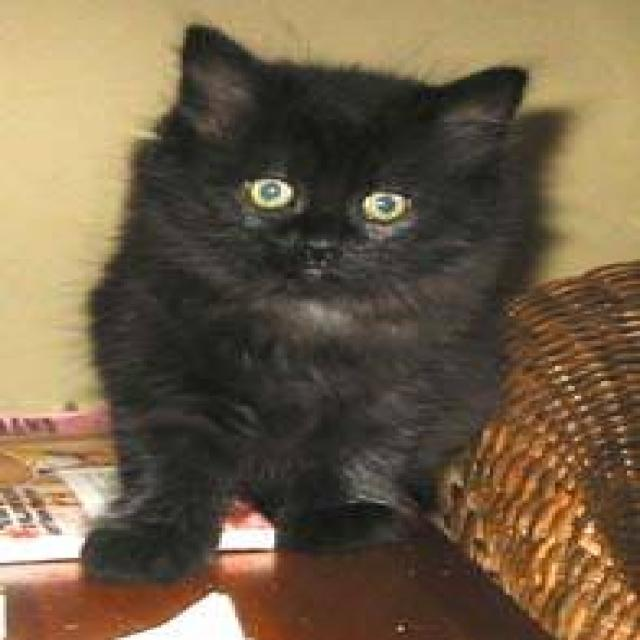cat: (75, 20, 542, 583)
